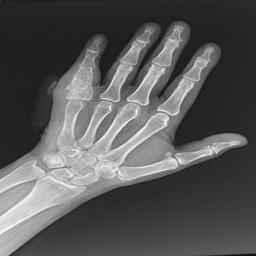cancer: (60, 68, 95, 104)
